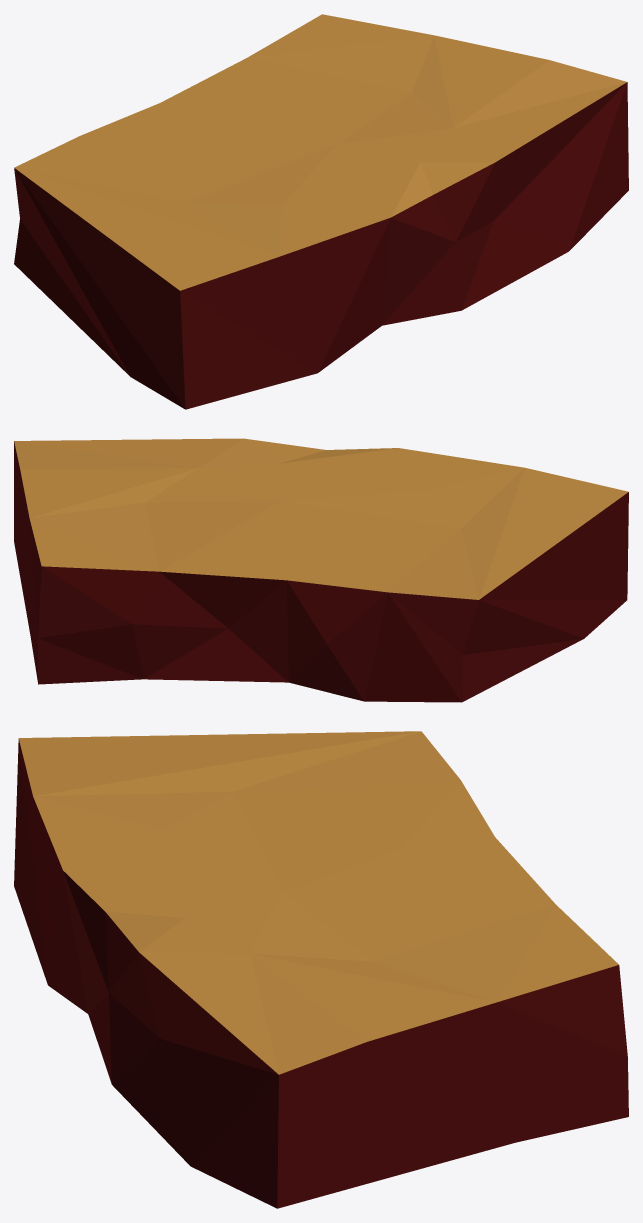
The model's file is modPlat_Mid_Plat_Thick_modelled.fbx.
3 views of the same model, one above another, from view 1: azimuth 30°, elevation 25°; view 2: azimuth 150°, elevation 25°; view 3: azimuth 270°, elevation 25° (orthographic). The views are drawn at different scales.
Parts seen in each view (by area): view 1: modPlat_Mid_Plat_Thick_modelled; view 2: modPlat_Mid_Plat_Thick_modelled; view 3: modPlat_Mid_Plat_Thick_modelled.
Part boxes in pixels (x1,y1,x2,y2): modPlat_Mid_Plat_Thick_modelled: [14, 14, 628, 409]; modPlat_Mid_Plat_Thick_modelled: [14, 438, 628, 702]; modPlat_Mid_Plat_Thick_modelled: [14, 731, 628, 1208].
Bounding box in the file's own units: 136 × 30.78 × 105.
